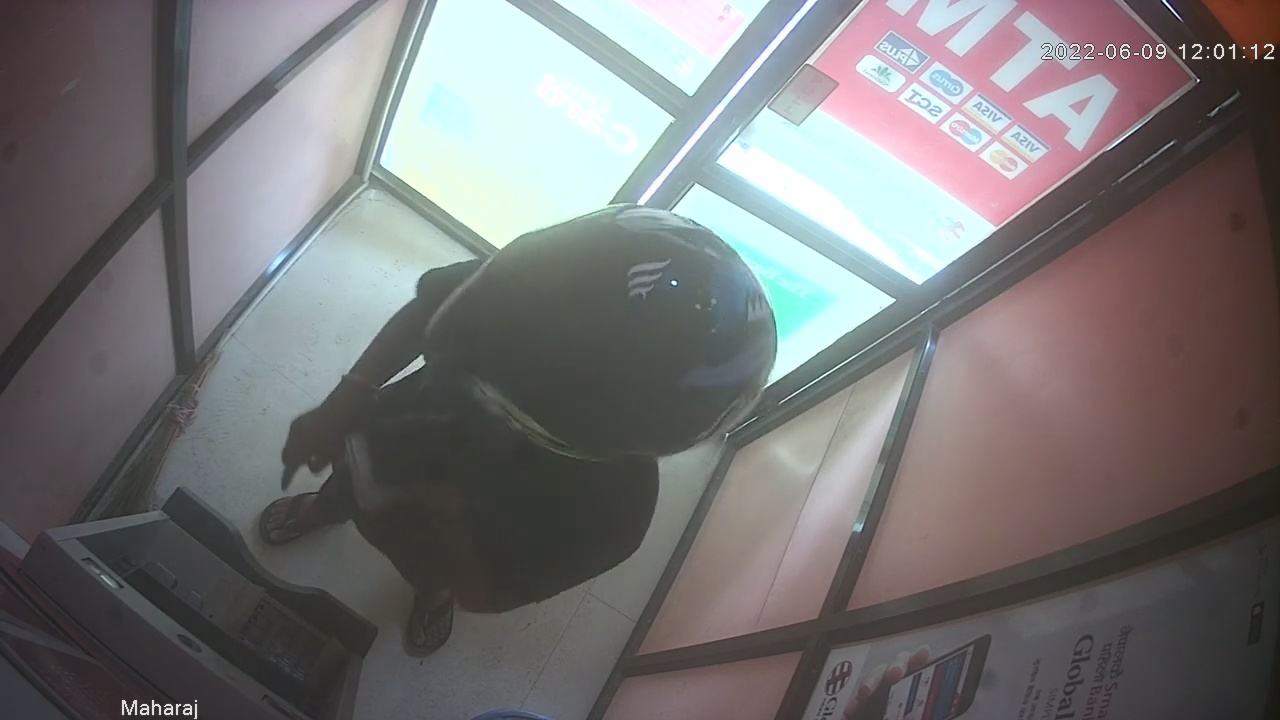helmet: (413, 204, 777, 469)
person: (258, 201, 780, 659)
